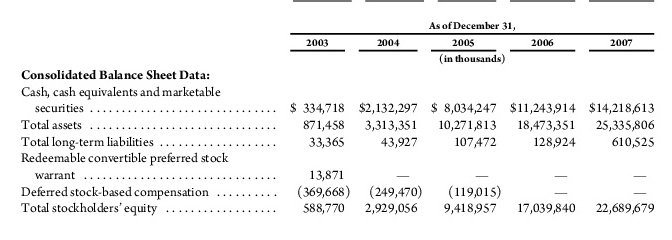table: (0, 0, 672, 240)
